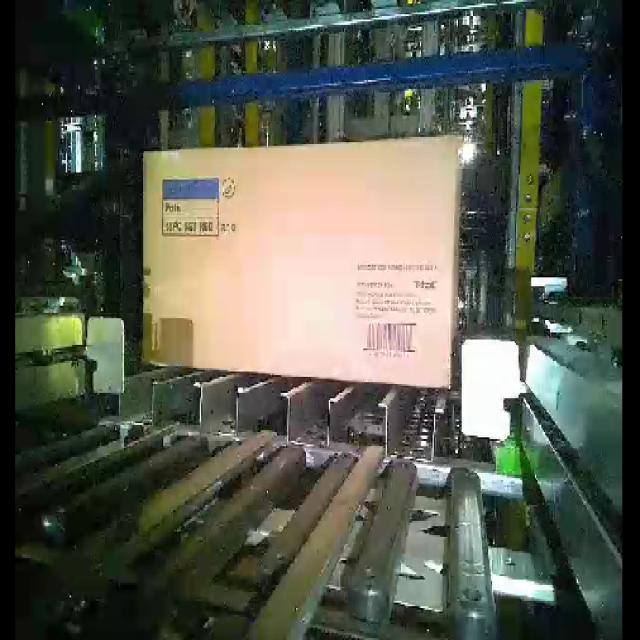box: (143, 130, 458, 387)
